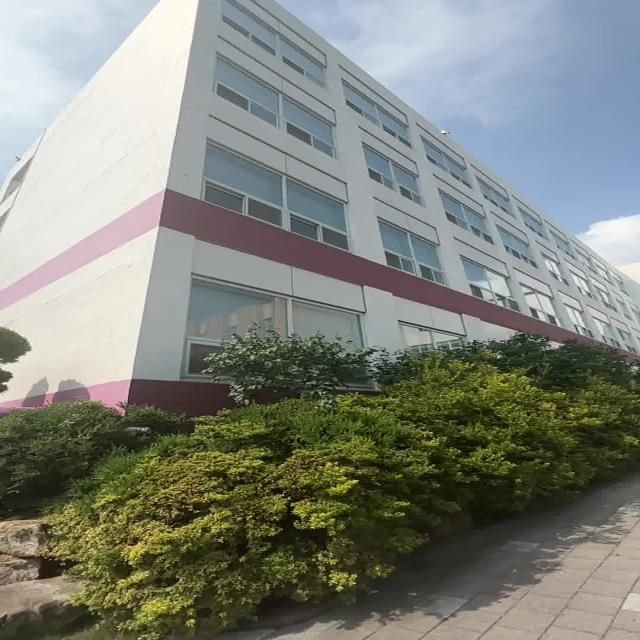building: (0, 6, 640, 356)
